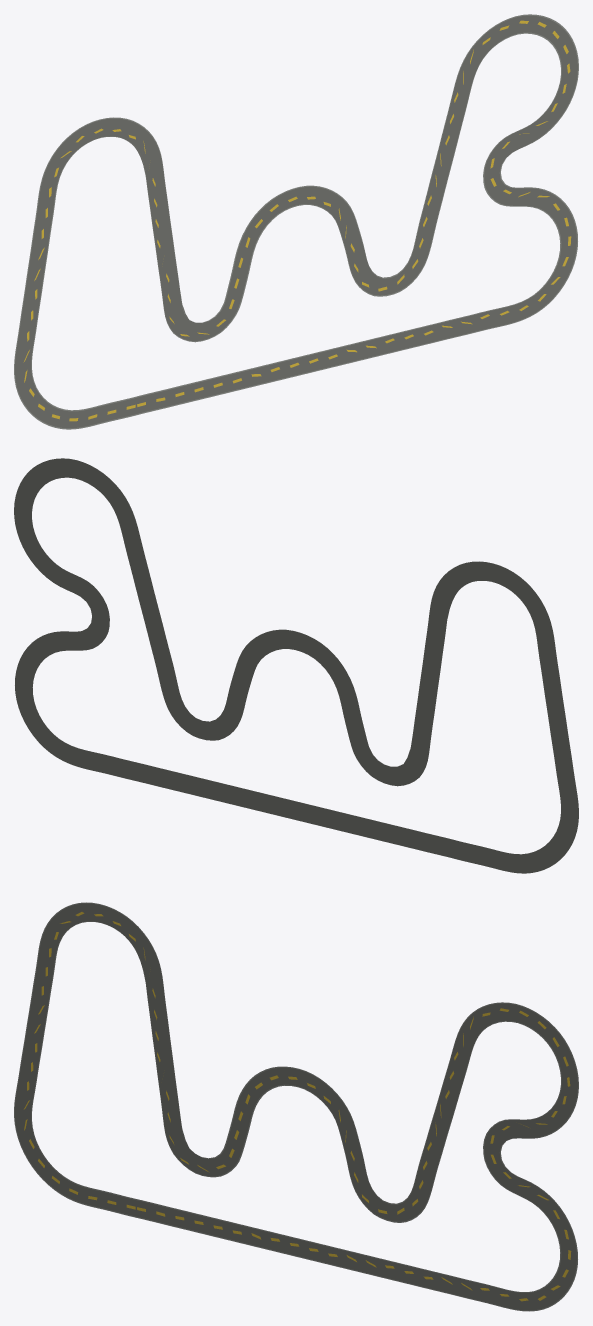
The model's file is track.obj.
3 views of the same model, one above another, from view 1: azimuth 30°, elevation 25°; view 2: azimuth 150°, elevation 25°; view 3: azimuth 330°, elevation 25° (orthographic).
Size of the model in its own units: 19.15 by 9.93 by 0.002.
